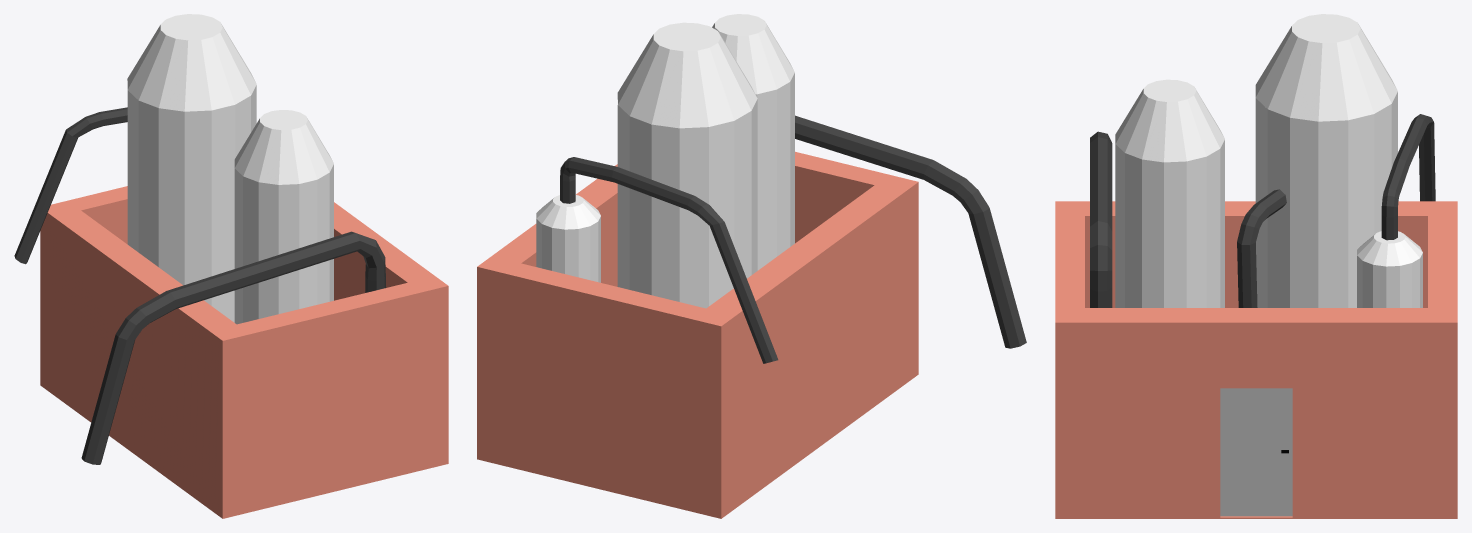
The model's file is DobleDepositos.fbx.
3 renders of one model, left to right at view 1: azimuth 30°, elevation 25°; view 2: azimuth 150°, elevation 25°; view 3: azimuth 270°, elevation 25°, orthographic. The views are drawn at different scales.
Visible parts, largest first — view 1: Cube, Cylinder.001, Cylinder, Cylinder.003, Cylinder.005; view 2: Cube, Cylinder.001, Cylinder, Cylinder.003, Cylinder.005, Cylinder.002; view 3: Cube, Cylinder.001, Cylinder, Cube.001, Cylinder.002, Cylinder.003, Cylinder.005, Cylinder.004.
Part boxes in pixels (x1=…): Cube: x1=40, y1=186, x2=448, y2=518; Cylinder.001: x1=127, y1=14, x2=256, y2=322; Cylinder: x1=234, y1=110, x2=333, y2=324; Cylinder.003: x1=81, y1=231, x2=385, y2=464; Cylinder.005: x1=14, y1=107, x2=127, y2=264; Cube: x1=477, y1=151, x2=918, y2=518; Cylinder.001: x1=617, y1=22, x2=757, y2=308; Cylinder: x1=712, y1=14, x2=794, y2=270; Cylinder.003: x1=795, y1=115, x2=1026, y2=348; Cylinder.005: x1=560, y1=157, x2=778, y2=363; Cylinder.002: x1=536, y1=195, x2=600, y2=282; Cube: x1=1055, y1=201, x2=1457, y2=518; Cylinder.001: x1=1255, y1=14, x2=1397, y2=307; Cylinder: x1=1115, y1=79, x2=1224, y2=307; Cube.001: x1=1220, y1=388, x2=1292, y2=516; Cylinder.002: x1=1357, y1=231, x2=1422, y2=307; Cylinder.003: x1=1090, y1=131, x2=1112, y2=307; Cylinder.005: x1=1381, y1=114, x2=1435, y2=240; Cylinder.004: x1=1237, y1=189, x2=1286, y2=307.
Bounding box in the file's own units: 306 × 322 × 280.
